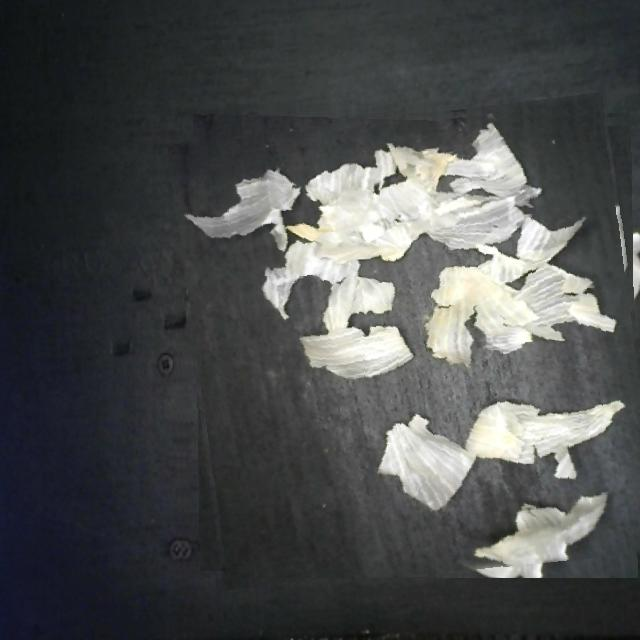biodegradable: (175, 104, 640, 578)
